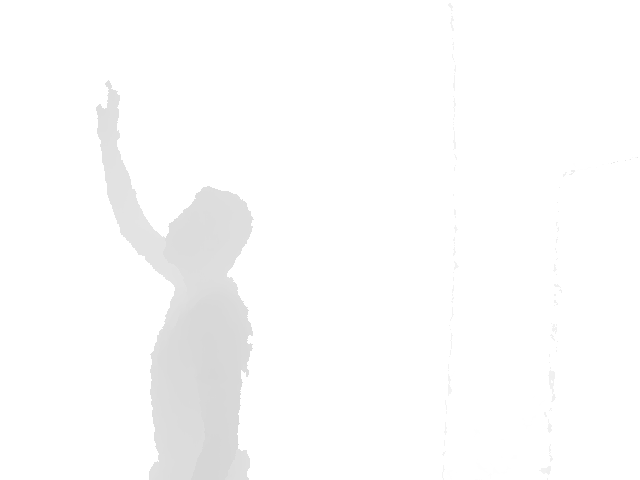hand: (94, 79, 121, 147)
head: (160, 184, 253, 276)
person: (94, 80, 254, 480)
